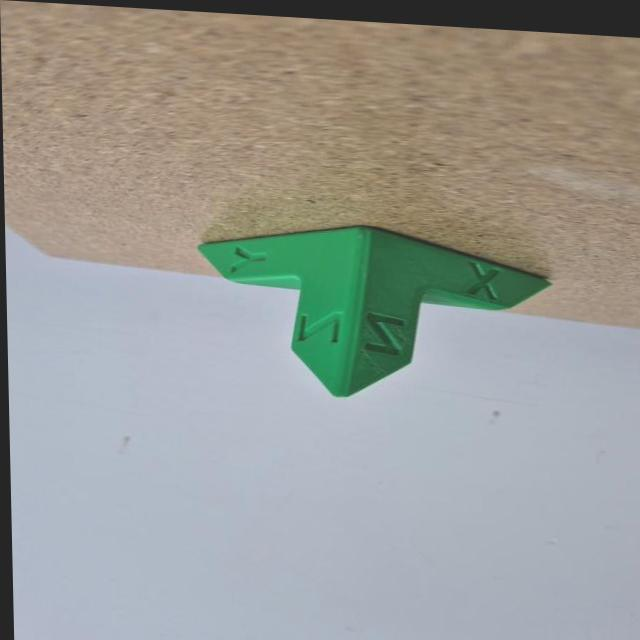eje: (191, 211, 564, 415)
